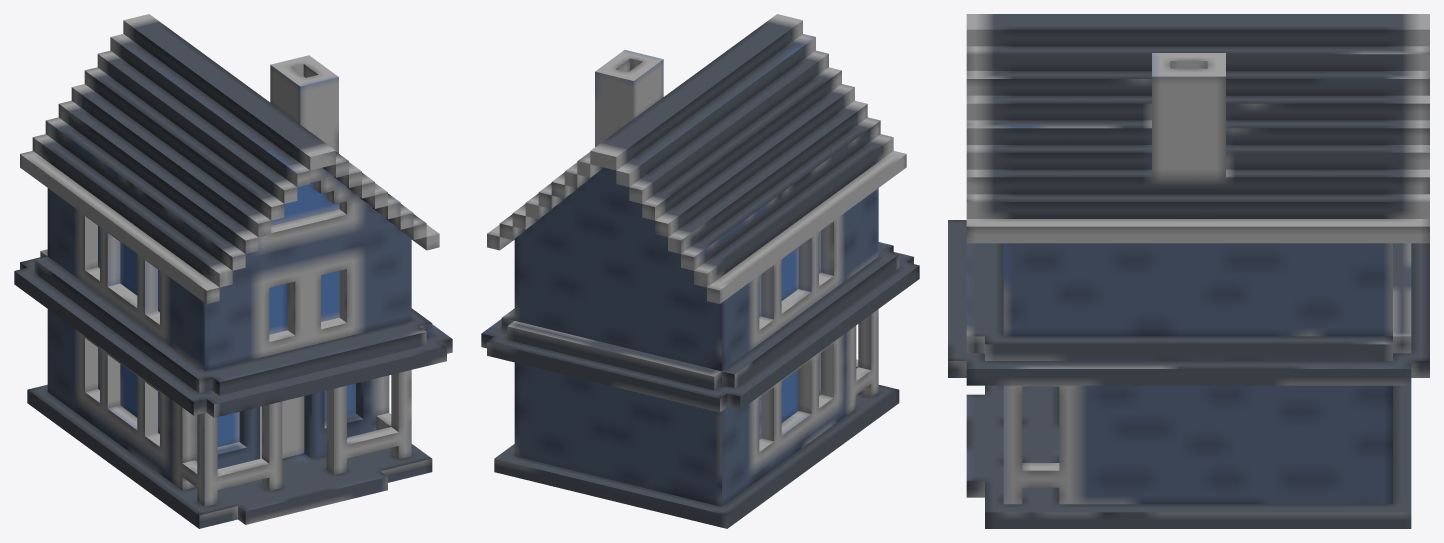
Rendered from 3 little home.fbx.
3 views of the same model, side by side, from view 1: azimuth 30°, elevation 25°; view 2: azimuth 150°, elevation 25°; view 3: azimuth 270°, elevation 25° (orthographic). The views are drawn at different scales.
Parts seen in each view (by area): view 1: Untitled; view 2: Untitled; view 3: Untitled.
Part boxes in pixels (bbox=[...]): Untitled: bbox=[14, 14, 452, 528]; Untitled: bbox=[481, 14, 919, 528]; Untitled: bbox=[948, 14, 1429, 528].
Bounding box in the file's own units: 200 × 260 × 260.
1 material, 1 textured.
